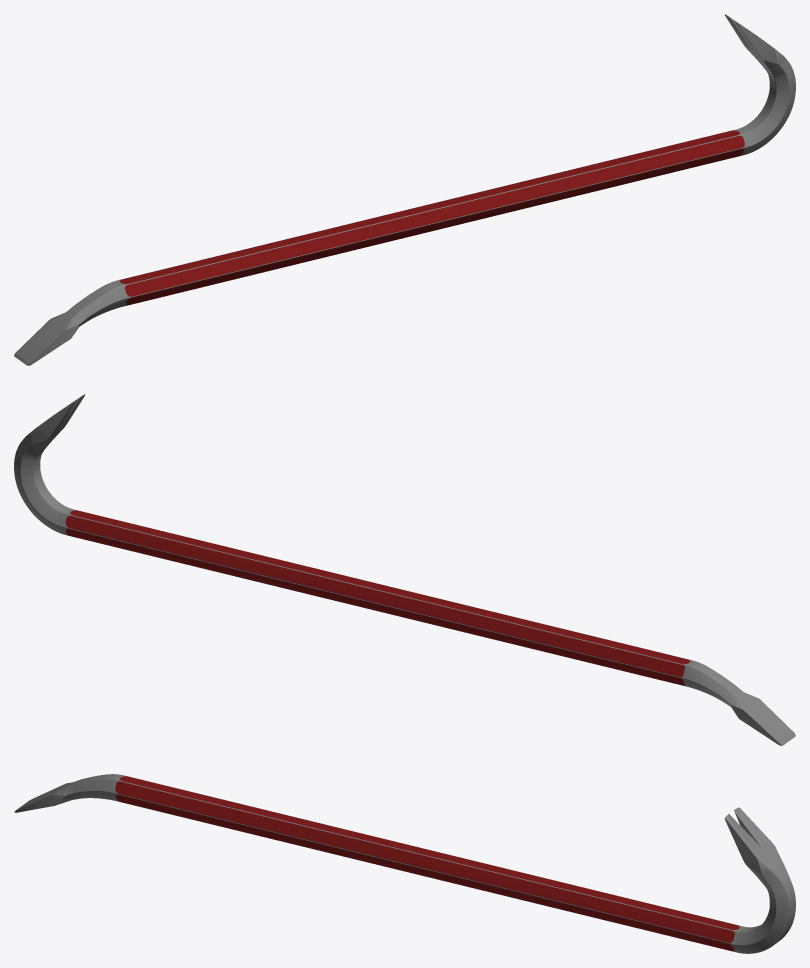
Rendered from Crowbar1.FBX.
The picture shows the model from 3 angles, top to bottom: view 1: azimuth 30°, elevation 25°; view 2: azimuth 150°, elevation 25°; view 3: azimuth 330°, elevation 25°; orthographic projection.
Visible parts, largest first — view 1: Linie002; view 2: Linie002; view 3: Linie002.
Part boxes in pixels (left/top/right/bottom): Linie002: left=14, top=14, right=795, bottom=365; Linie002: left=14, top=394, right=795, bottom=745; Linie002: left=14, top=774, right=795, bottom=953.
Size of the model in its own units: 754 by 158 by 29.61.
